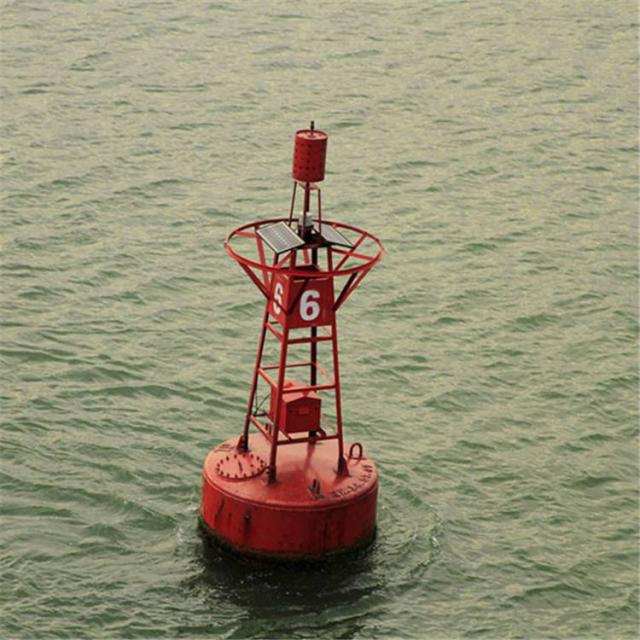buoy: (187, 110, 386, 553)
